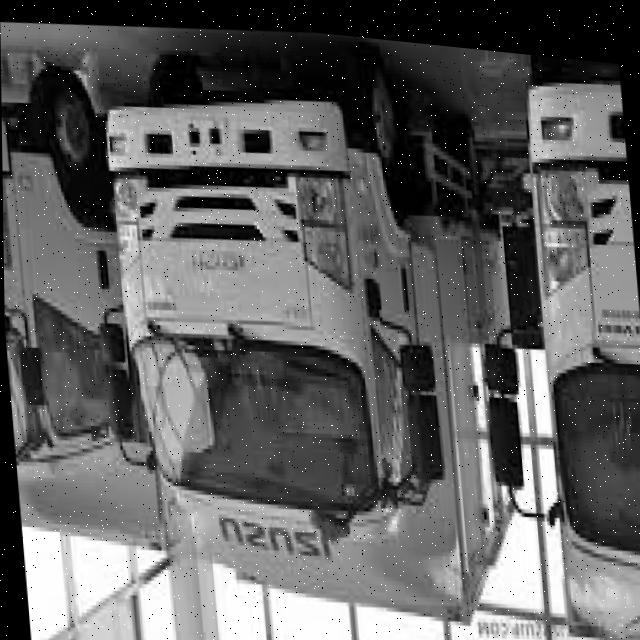truck: (88, 15, 468, 604), (449, 38, 640, 640), (2, 44, 162, 557)
